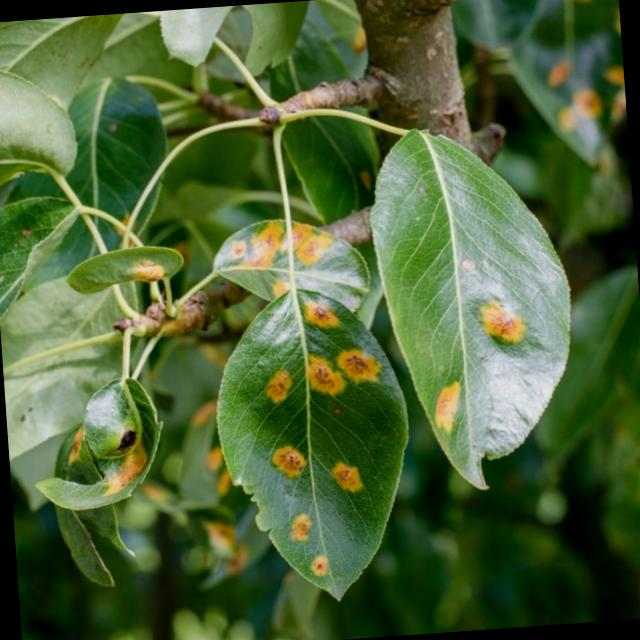leaf_rust: (371, 131, 570, 487), (217, 289, 406, 598)
